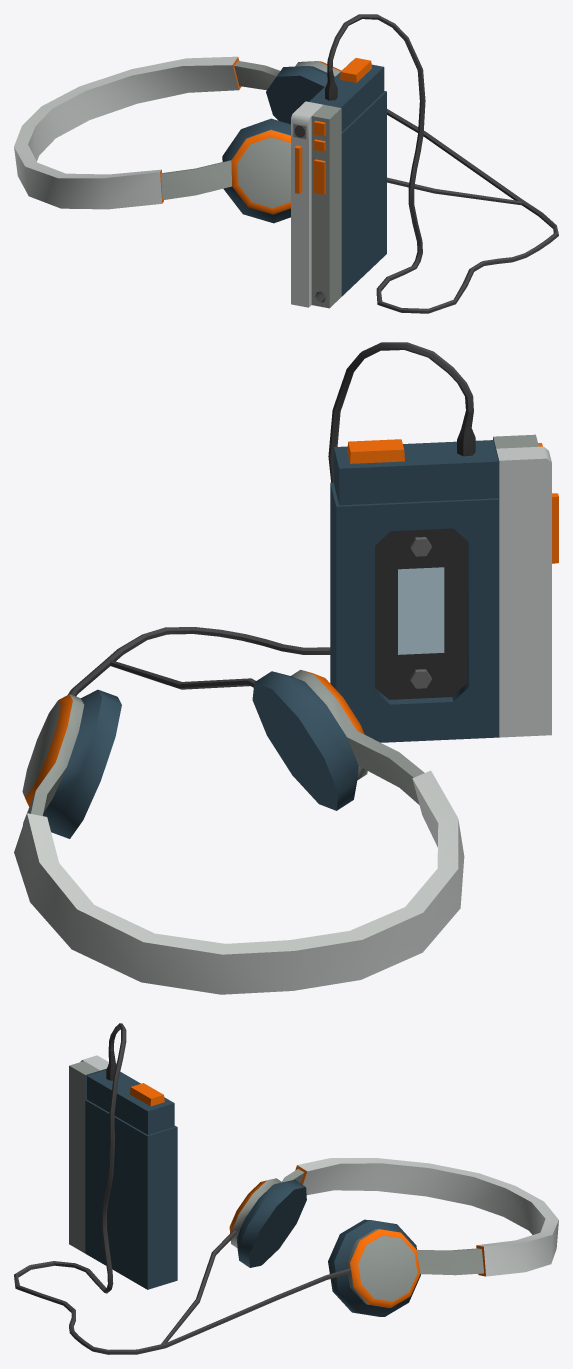
Rendered from headphones-walkman.glb.
3 views of the same model, one above another, from view 1: azimuth 30°, elevation 25°; view 2: azimuth 150°, elevation 25°; view 3: azimuth 270°, elevation 25° (orthographic). The views are drawn at different scales.
Parts seen in each view (by area): view 1: Walkdude_01; view 2: Walkdude_01; view 3: Walkdude_01.
Part boxes in pixels (x1=…): Walkdude_01: x1=14, y1=14, x2=558, y2=313; Walkdude_01: x1=14, y1=342, x2=558, y2=994; Walkdude_01: x1=14, y1=1023, x2=558, y2=1354.
Bounding box in the file's own units: 0.4144 × 0.2836 × 0.5693.
1 material, 1 textured.
